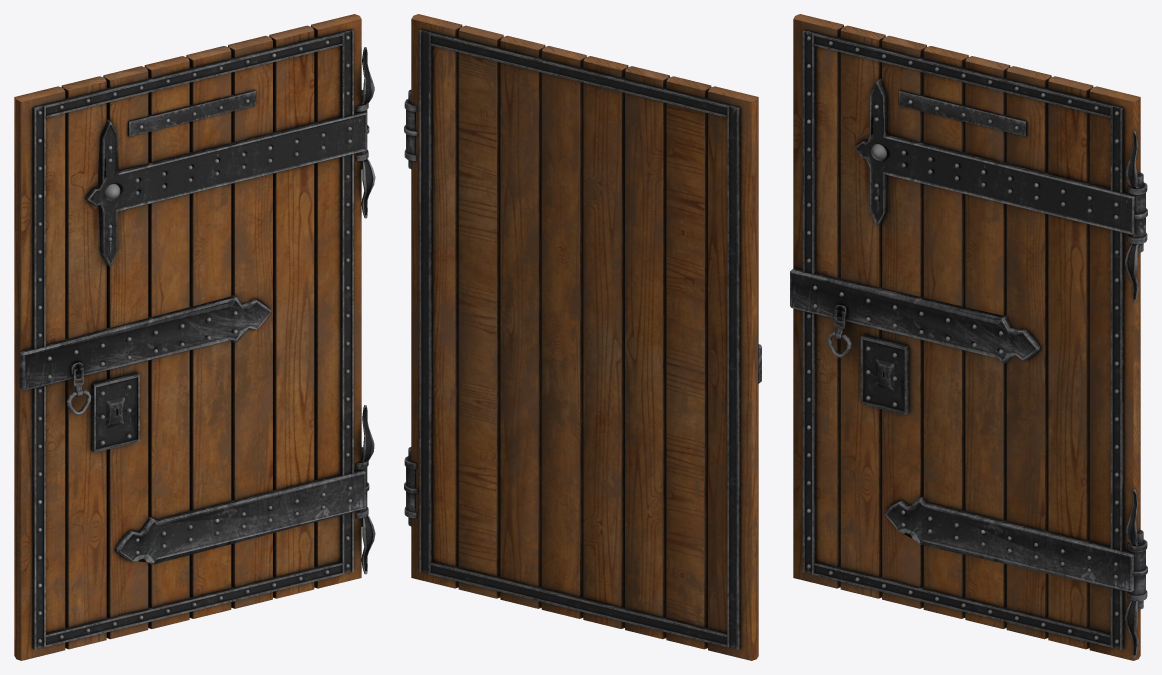
Rendered from gate-main.glb.
3 renders of one model, left to right at view 1: azimuth 30°, elevation 25°; view 2: azimuth 150°, elevation 25°; view 3: azimuth 330°, elevation 25°, orthographic.
Parts seen in each view (by area): view 1: polySurface12, polySurface289, Dots, Handles; view 2: polySurface12, polySurface289, Handles; view 3: polySurface12, polySurface289, Handles, Dots.
Boxes of the visible parts, x1,y1,x2,y2 form: polySurface12: (14, 14, 361, 660); polySurface289: (19, 29, 366, 649); Dots: (37, 35, 351, 643); Handles: (355, 47, 375, 574); polySurface12: (411, 14, 758, 660); polySurface289: (419, 29, 761, 649); Handles: (404, 89, 418, 526); polySurface12: (793, 14, 1140, 660); polySurface289: (790, 30, 1135, 650); Handles: (1125, 131, 1147, 658); Dots: (807, 36, 1119, 643).
Bounding box in the file's own units: 1.64 × 2.5 × 0.1322.
Materials: 1 (1 with a texture image).
